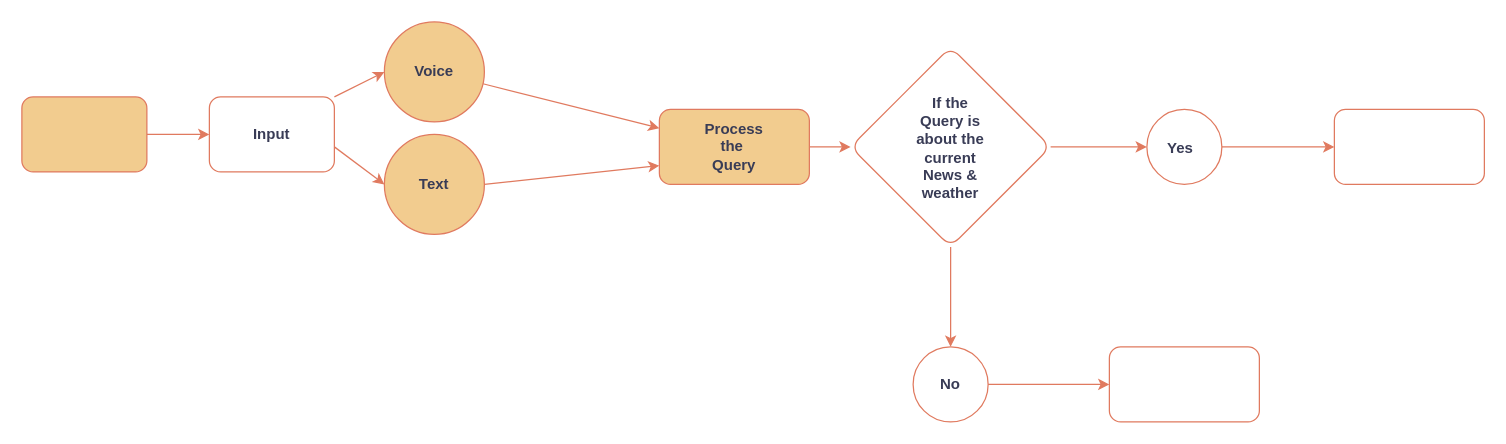
Some shapes in this 1506 by 444 pixel diagram are drawn without their labels. The box of each missing label's shape, as (x1, y1, x2, y2) in pixels:
Use the Gemini Api to generate output: (1108, 346, 1259, 422)
Use the news& weather api to generate output: (1333, 108, 1484, 184)
User: (21, 96, 147, 172)
